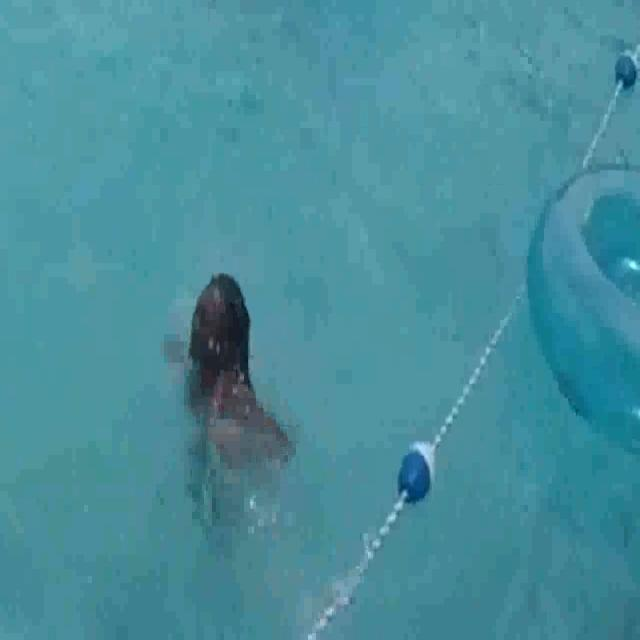drowning: (135, 260, 309, 523)
